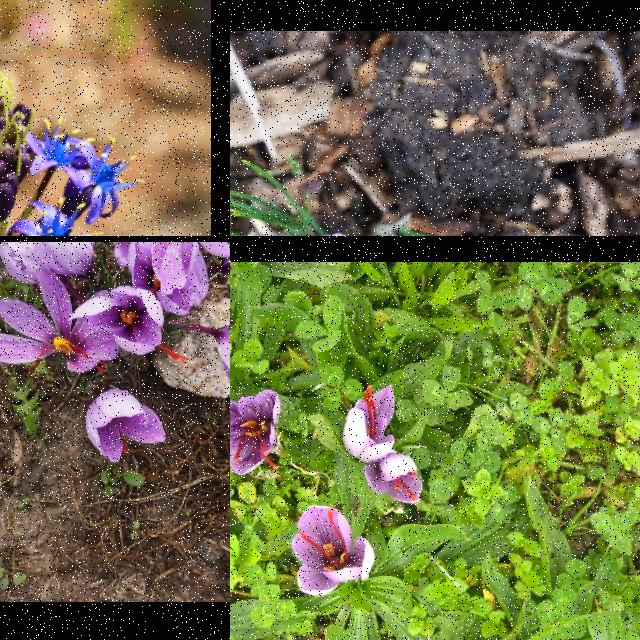flower: (292, 507, 376, 597), (86, 388, 166, 464), (230, 390, 282, 475), (342, 384, 396, 464), (363, 453, 422, 503), (208, 319, 230, 397)
overlap: (0, 242, 209, 375)
